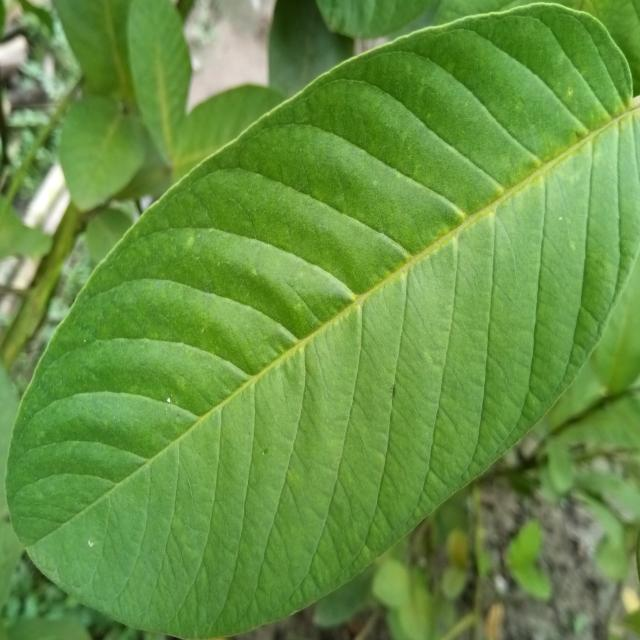Disease Free: (8, 5, 640, 637), (172, 85, 285, 181), (128, 0, 191, 161), (60, 96, 146, 211)
